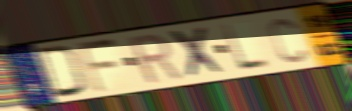C: (267, 16, 309, 65)
D: (34, 44, 90, 99)
F: (74, 37, 122, 95)
L: (219, 22, 272, 73)
R: (125, 31, 187, 87)
X: (165, 24, 230, 80)
